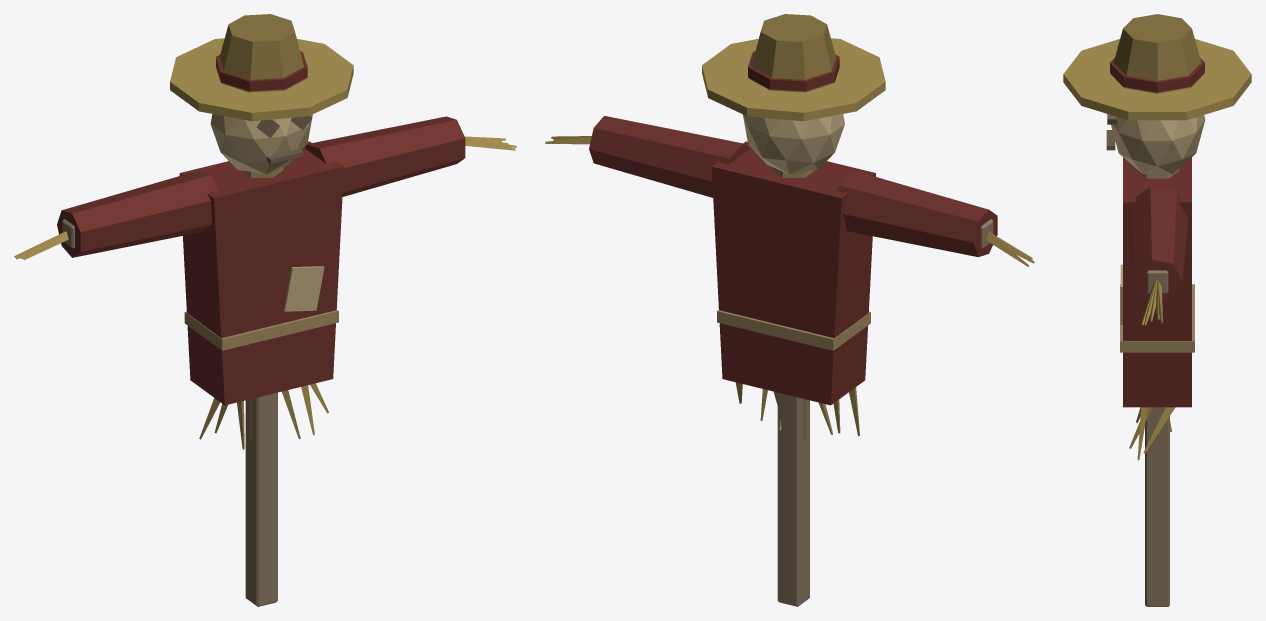
The model's file is scarecrow.glb.
3 renders of one model, left to right at view 1: azimuth 30°, elevation 25°; view 2: azimuth 150°, elevation 25°; view 3: azimuth 270°, elevation 25°, orthographic.
Parts seen in each view (by area): view 1: Scarecrow; view 2: Scarecrow; view 3: Scarecrow.
Boxes of the visible parts, box(x1,y1,x2,y2) form: Scarecrow: box(14, 14, 516, 606); Scarecrow: box(545, 14, 1034, 606); Scarecrow: box(1063, 14, 1251, 606).
Size of the model in its own units: 1.82 by 2.02 by 0.6.
